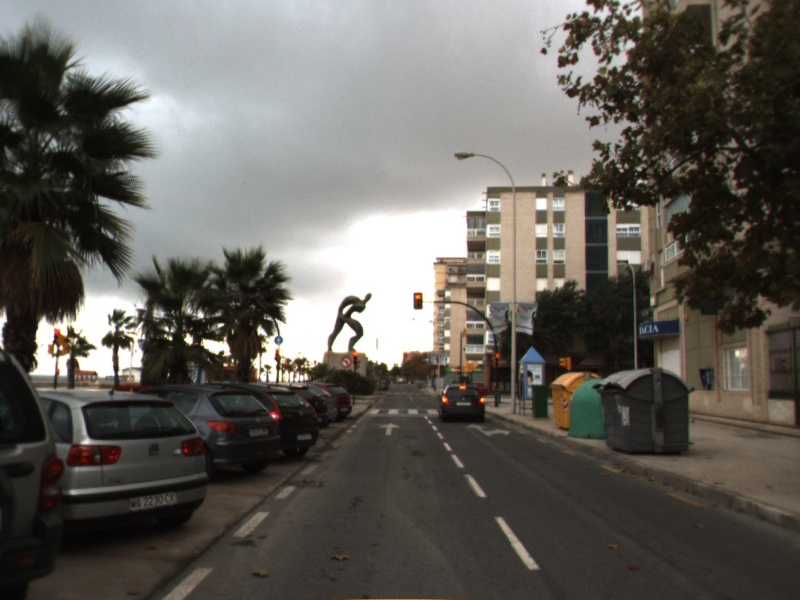STRAIGHT: (377, 421, 402, 436)
STRAIGHT_RIGHT: (464, 422, 512, 438)
